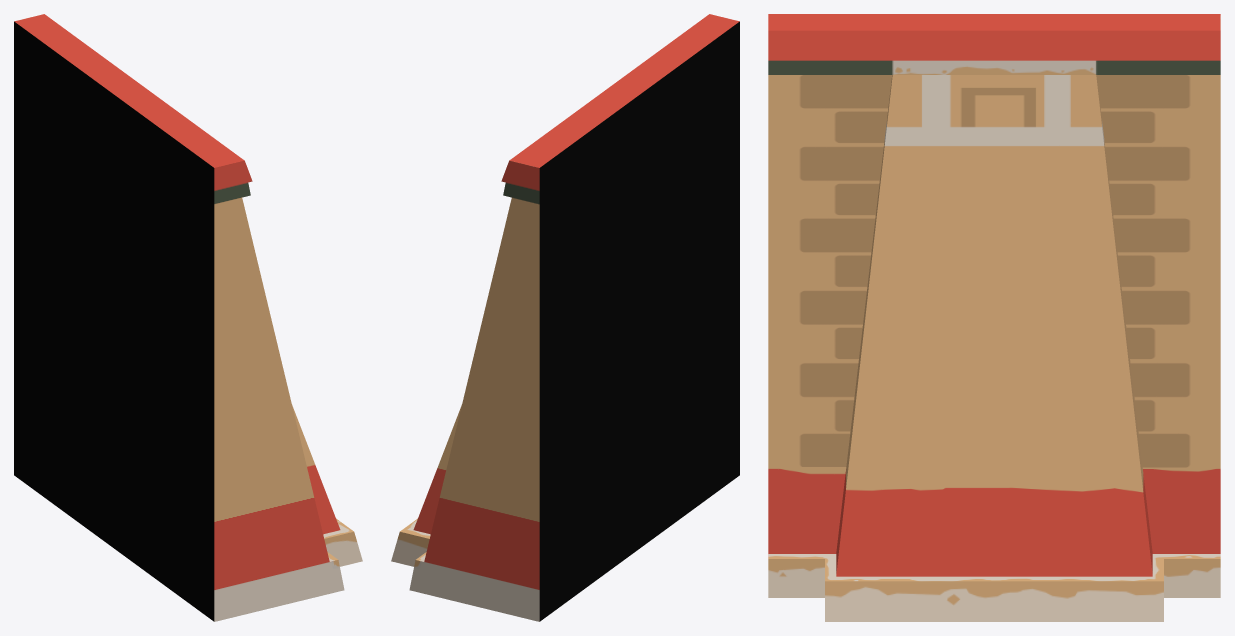
The model's file is wallAccent.fbx.
The picture shows the model from 3 angles, left to right: view 1: azimuth 30°, elevation 25°; view 2: azimuth 150°, elevation 25°; view 3: azimuth 270°, elevation 25°; orthographic projection. The views are drawn at different scales.
Parts seen in each view (by area): view 1: WallAccent; view 2: WallAccent; view 3: WallAccent.
Part boxes in pixels (x1,y1,x2,y2): WallAccent: (14, 14, 362, 621); WallAccent: (391, 14, 739, 621); WallAccent: (768, 14, 1220, 621).
Bounding box in the file's own units: 2 × 5 × 4.
